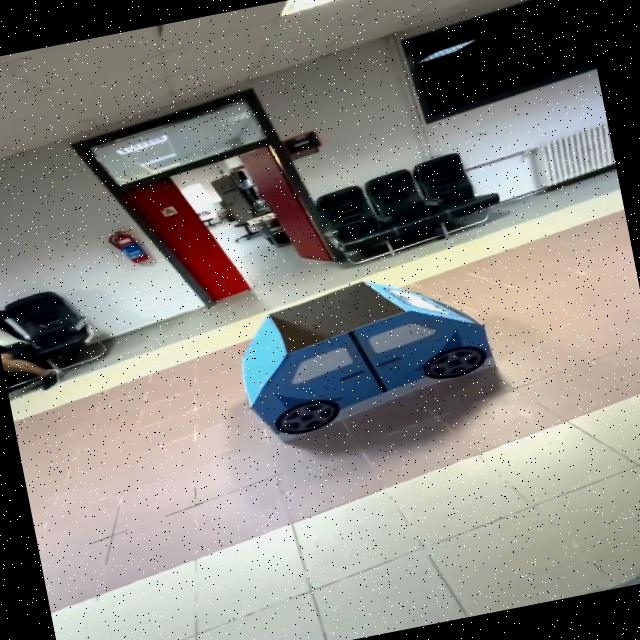blue_car: (207, 242, 553, 458)
